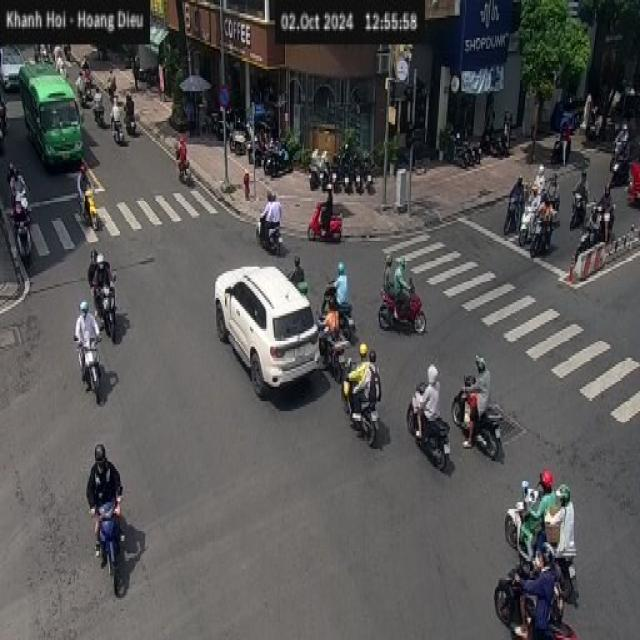car: (214, 266, 315, 402), (22, 71, 92, 172), (4, 41, 25, 97)
motorcycle: (495, 580, 573, 640), (450, 373, 502, 460), (405, 382, 450, 471), (91, 486, 124, 596), (340, 356, 380, 446), (506, 508, 572, 558), (378, 278, 427, 333), (74, 333, 101, 402), (92, 271, 116, 342), (12, 207, 32, 269), (252, 216, 286, 252), (310, 208, 340, 248), (318, 323, 345, 366), (572, 229, 606, 260), (531, 217, 558, 255), (232, 116, 258, 152), (79, 184, 99, 229), (606, 150, 634, 182), (308, 140, 327, 186), (261, 145, 294, 170), (458, 130, 482, 164), (548, 128, 574, 158), (487, 112, 513, 142), (522, 204, 540, 246), (317, 145, 334, 186), (112, 117, 131, 153), (260, 136, 286, 161), (329, 154, 346, 191), (341, 149, 357, 188), (354, 140, 366, 192), (361, 152, 375, 196), (507, 193, 522, 234), (595, 207, 616, 235), (473, 121, 497, 144), (532, 180, 550, 210), (446, 138, 471, 158), (572, 193, 588, 224), (548, 201, 566, 228), (176, 156, 192, 184)
person: (86, 442, 122, 564), (460, 353, 490, 447), (532, 468, 556, 546), (532, 547, 556, 621), (556, 478, 578, 558), (396, 354, 426, 404), (397, 249, 418, 308), (353, 338, 372, 403), (6, 201, 28, 255), (421, 364, 440, 419), (95, 256, 115, 308), (380, 252, 400, 304), (368, 345, 382, 416), (536, 175, 554, 229), (262, 189, 282, 233), (332, 267, 348, 321), (530, 160, 550, 202), (86, 248, 103, 294), (603, 134, 629, 164), (4, 158, 22, 200), (75, 160, 92, 202), (573, 164, 589, 208), (601, 182, 620, 219), (320, 182, 336, 223), (174, 134, 192, 170), (614, 108, 631, 146), (510, 176, 527, 212), (290, 256, 305, 295), (560, 108, 575, 145), (271, 187, 283, 230), (132, 47, 144, 90), (584, 204, 598, 240), (128, 92, 143, 125), (75, 294, 88, 330), (527, 180, 538, 222), (584, 90, 594, 136), (76, 71, 88, 106), (107, 71, 122, 97), (110, 97, 126, 117), (91, 86, 104, 107)
